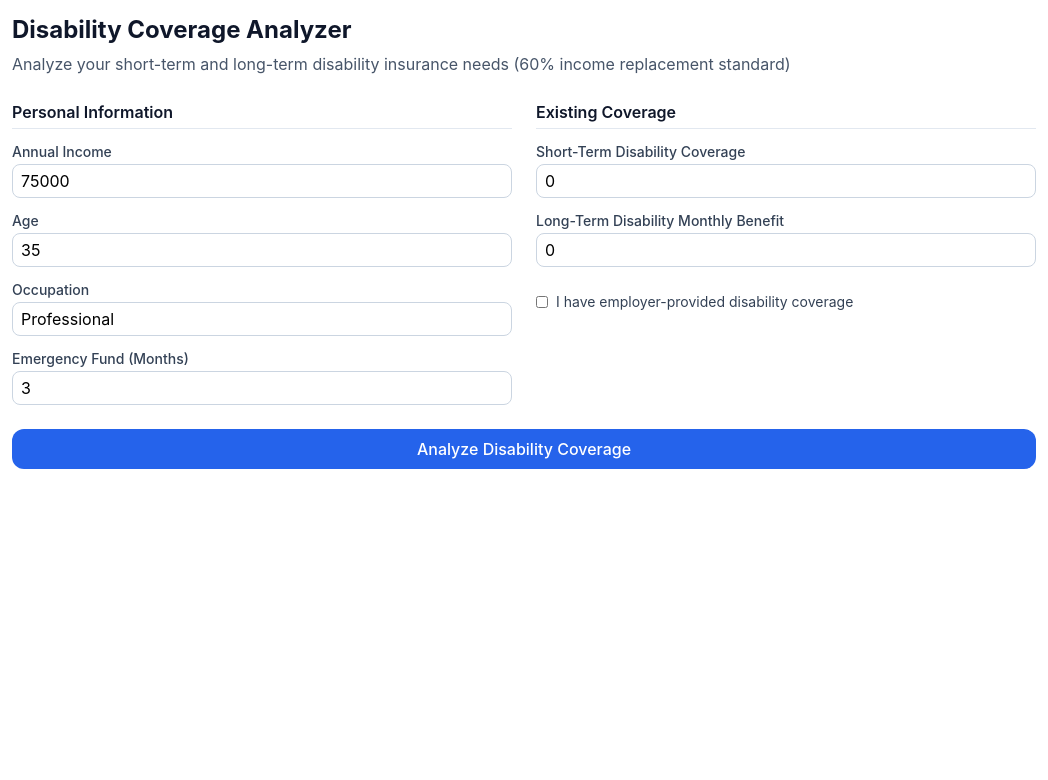
Disability Coverage Analyzer › displays occupation risk
The image size is (1048, 780).
Click the button "Analyze Disability Coverage".
click(524, 449)  # box [12,429,1036,469]
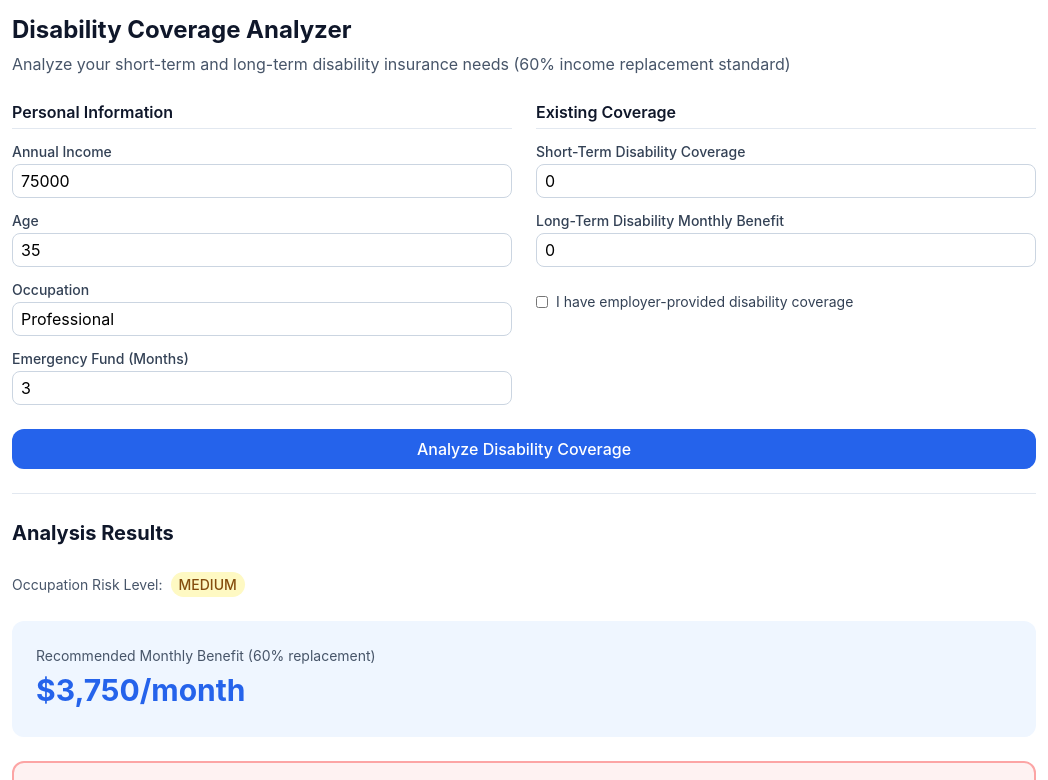
Now the text "Occupation Risk Level:" is shown, box [12,574,162,595]
